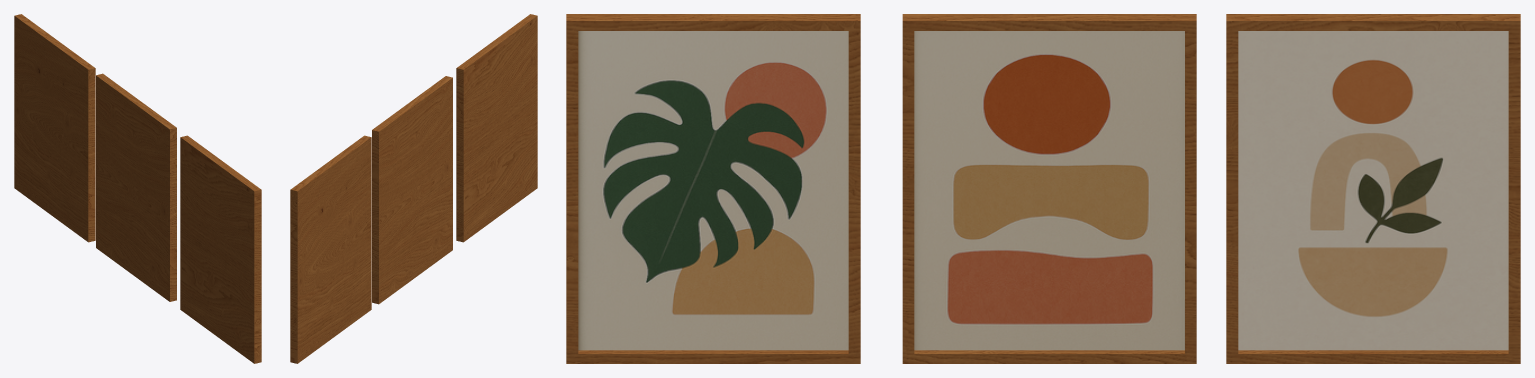
File: abstract_wall_art_set__game-ready_3d_models.glb
The picture shows the model from 3 angles, left to right: view 1: azimuth 30°, elevation 25°; view 2: azimuth 150°, elevation 25°; view 3: azimuth 270°, elevation 25°; orthographic projection. The views are drawn at different scales.
Parts seen in each view (by area): view 1: Paint03, Paint01, Paint02; view 2: Paint03, Paint01, Paint02; view 3: Paint02, Paint03, Paint01.
Part boxes in pixels (<box>): Paint03: <box>14,14,95,242</box>; Paint01: <box>180,135,261,363</box>; Paint02: <box>96,73,176,301</box>; Paint03: <box>290,135,371,363</box>; Paint01: <box>456,14,537,242</box>; Paint02: <box>372,76,452,304</box>; Paint02: <box>902,14,1196,363</box>; Paint03: <box>1226,14,1520,363</box>; Paint01: <box>566,14,860,363</box>.
Bounding box in the file's own units: 0.03 × 0.7 × 1.76.
Materials: 1 (1 with a texture image).
